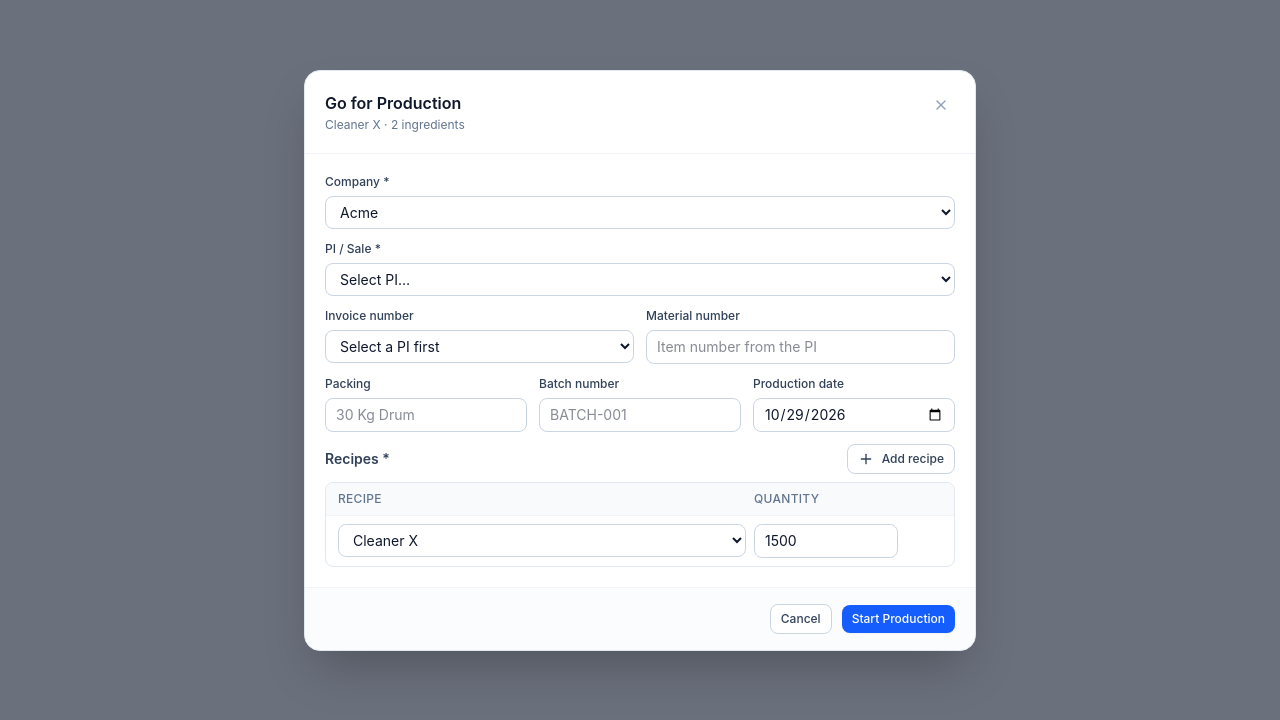
ProductionRunModal › refuses to create an invoice when the PI has nothing left to invoice
Select "Acme" in the dropdown named "Company". click: {"x": 640, "y": 212}
box: [325, 196, 955, 228]
Select "PI-9 — Acme LLC" in the dropdown named "PI / Sale". click: {"x": 640, "y": 279}
box: [325, 262, 955, 296]
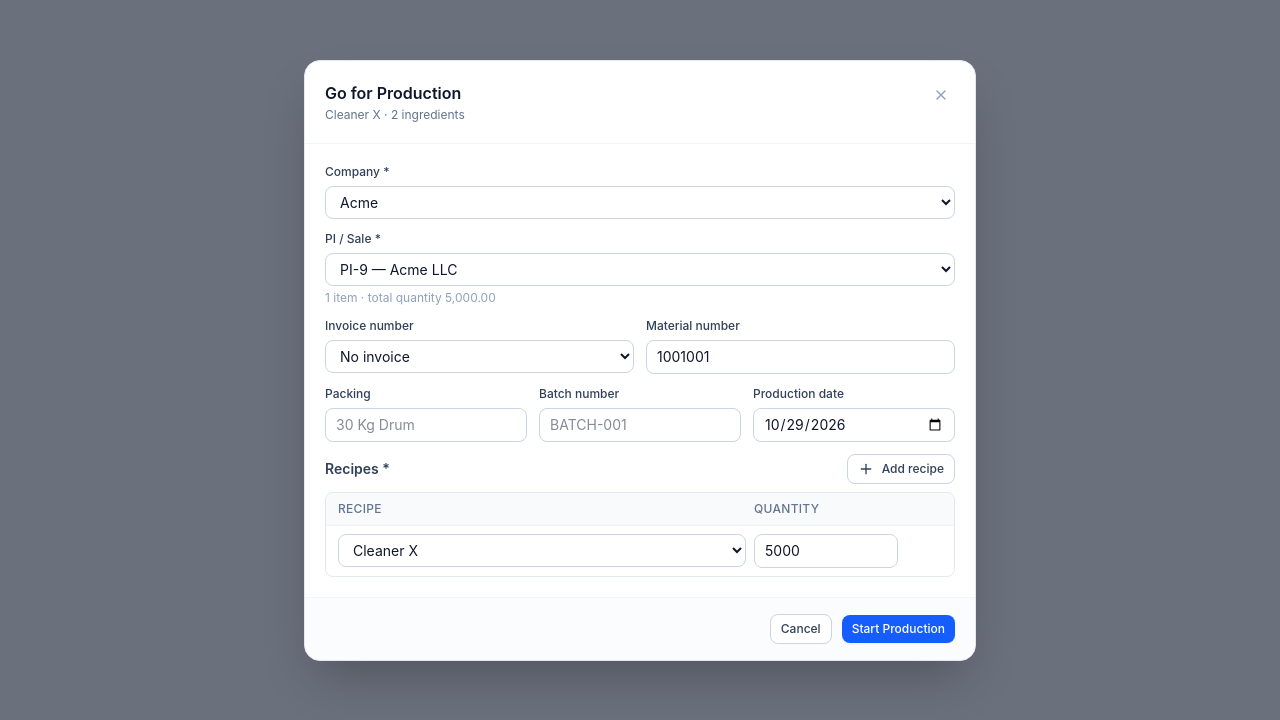
Expected: the number field named "Quantity" holds "5000", [754, 534, 898, 568]
Select "New invoice number…" in the dropdown named "Invoice number". click: {"x": 480, "y": 356}
box: [325, 340, 634, 372]
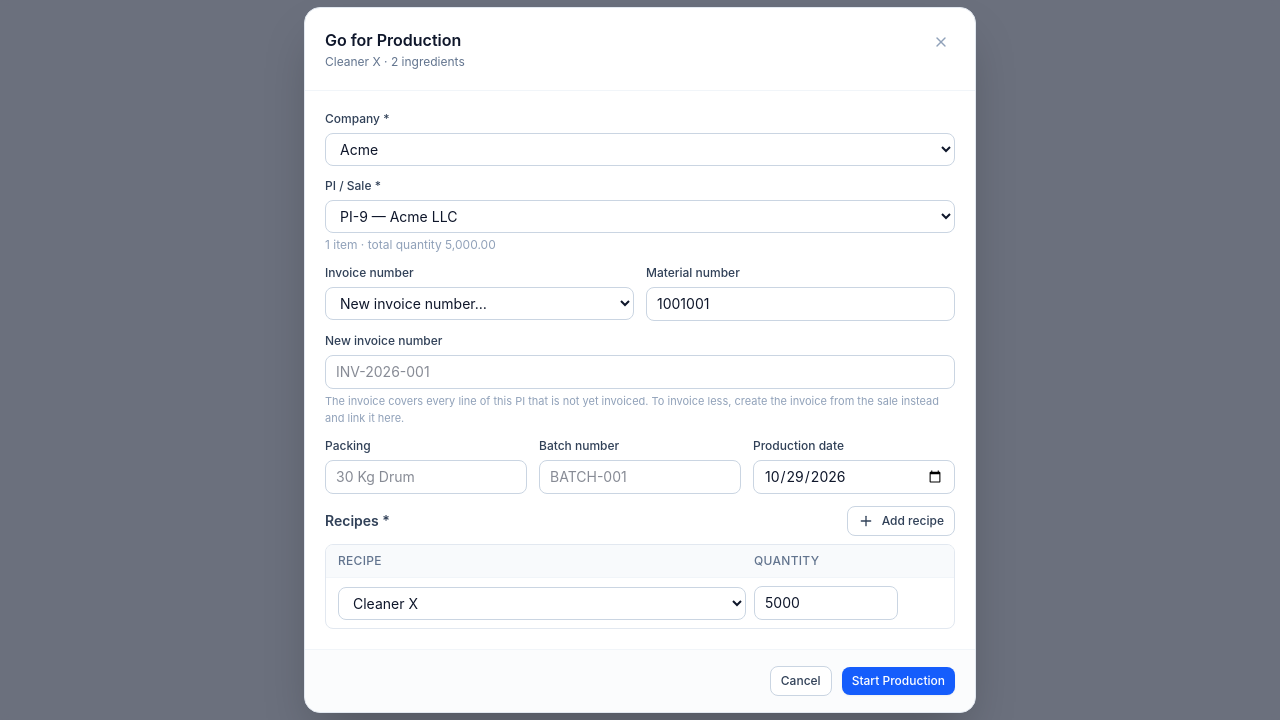
Type "INV-EMPTY" into the field named "New invoice number". click: {"x": 640, "y": 372}
box: [325, 355, 955, 389]
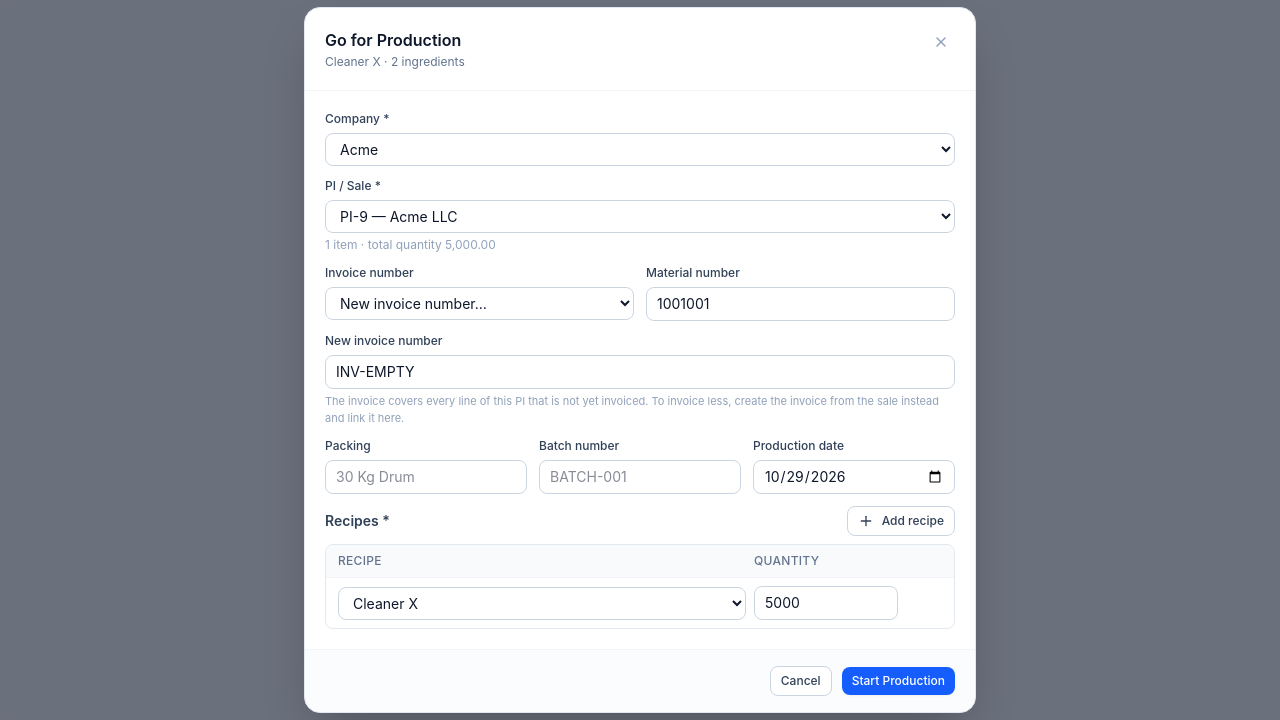
Click the button "Start Production". click: {"x": 898, "y": 681}
box: [842, 667, 955, 695]
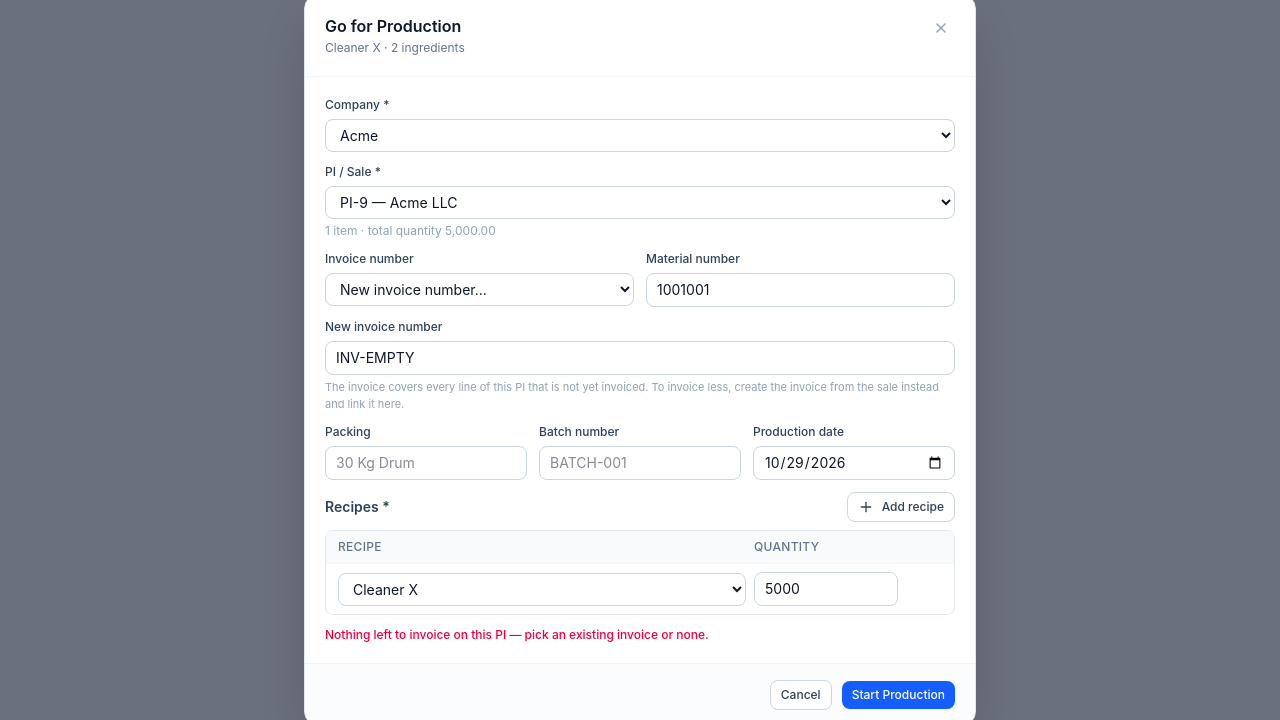
Expected: the text "Nothing left to invoice on this PI" is shown, [325, 627, 709, 642]
